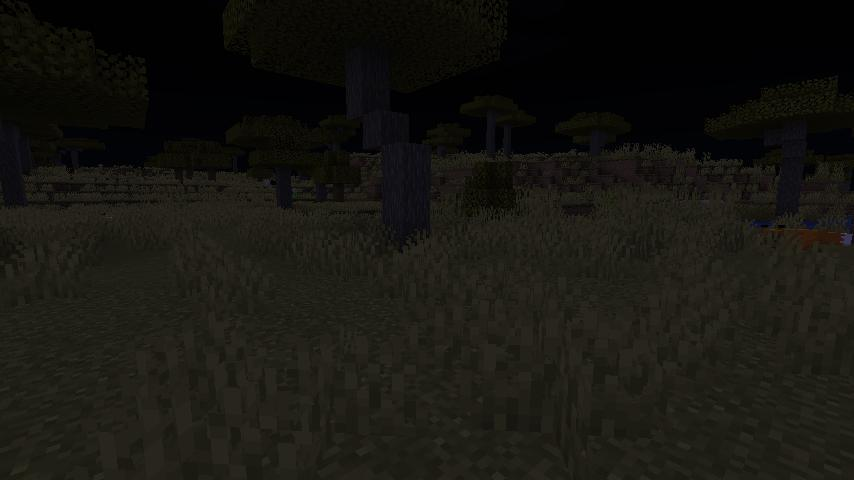creeper: (290, 185, 300, 201)
fox: (754, 221, 854, 259)
sheep: (269, 180, 278, 189), (264, 179, 271, 187)
